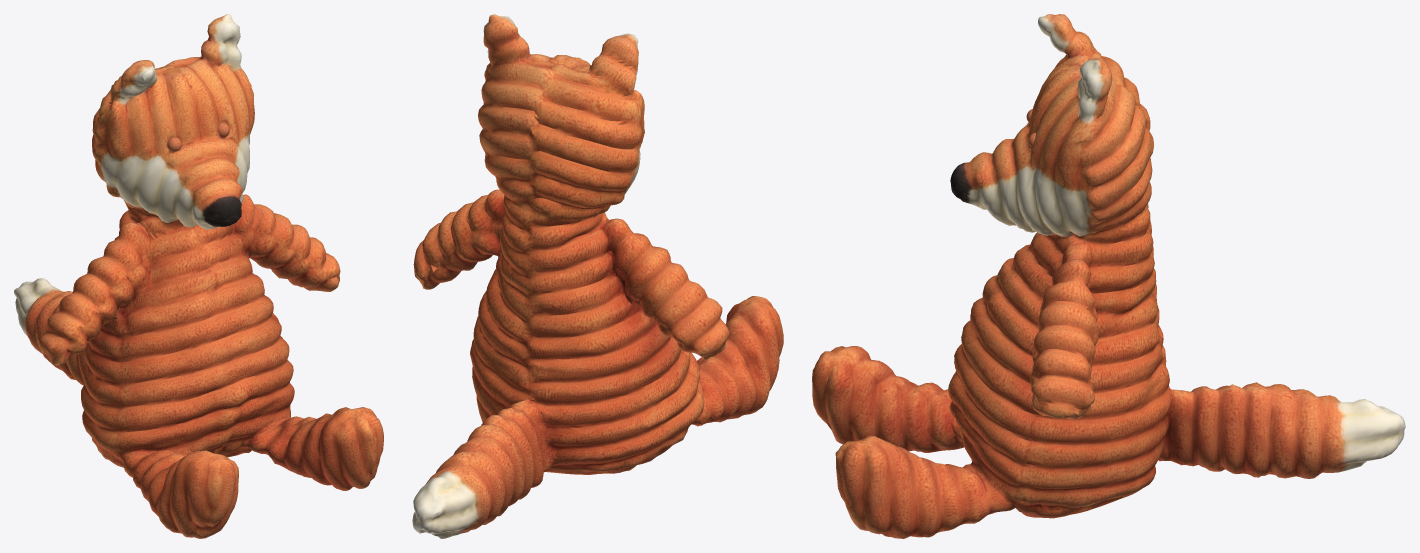
File: fox_toy.glb
3 renders of one model, left to right at view 1: azimuth 30°, elevation 25°; view 2: azimuth 150°, elevation 25°; view 3: azimuth 270°, elevation 25°, orthographic. The views are drawn at different scales.
Parts seen in each view (by area): view 1: Object_3; view 2: Object_3; view 3: Object_3.
Boxes of the visible parts, box(x1,y1,x2,y2) form: Object_3: box(14, 14, 383, 538); Object_3: box(412, 14, 783, 538); Object_3: box(812, 14, 1405, 538).
Bounding box in the file's own units: 0.4336 × 0.5884 × 0.6818.
Materials: 1 (1 with a texture image).
